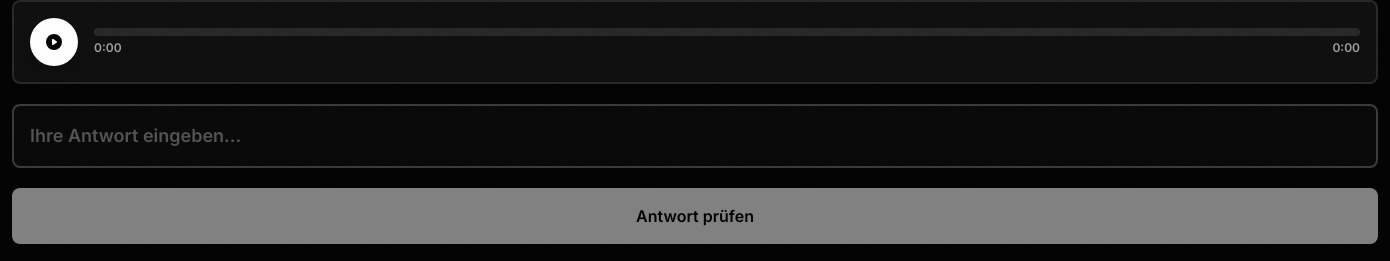
Test: AudioPuzzle › with audio url › should toggle play/pause via play button click
This screenshot has width=1390, height=261.
# Clicking play button triggers togglePlayback
Click the button named "Abspielen". click: (54, 42)
box: [30,18,78,66]
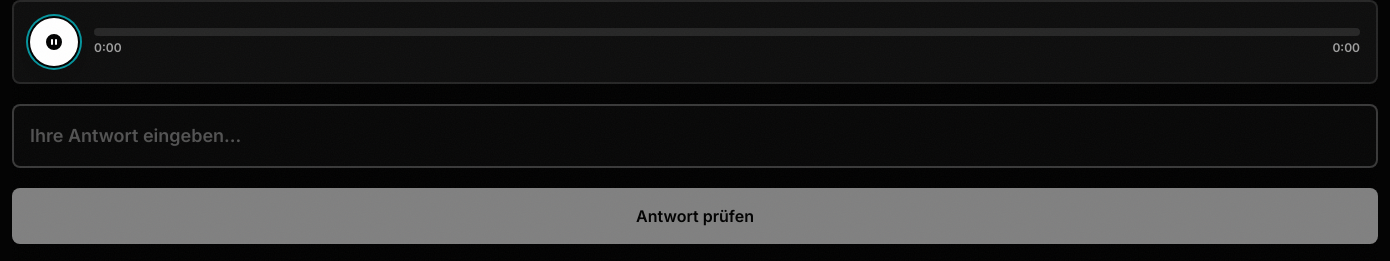
expect the button named "Pause" is shown: met
# Click again to pause
Click the button named "Pause". click: (54, 42)
box: [30,18,78,66]
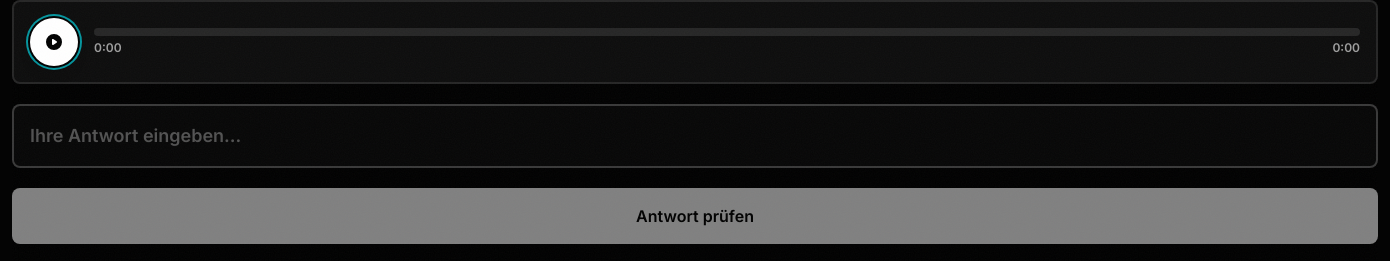
expect the button named "Abspielen" is shown: met, box [30,18,78,66]
